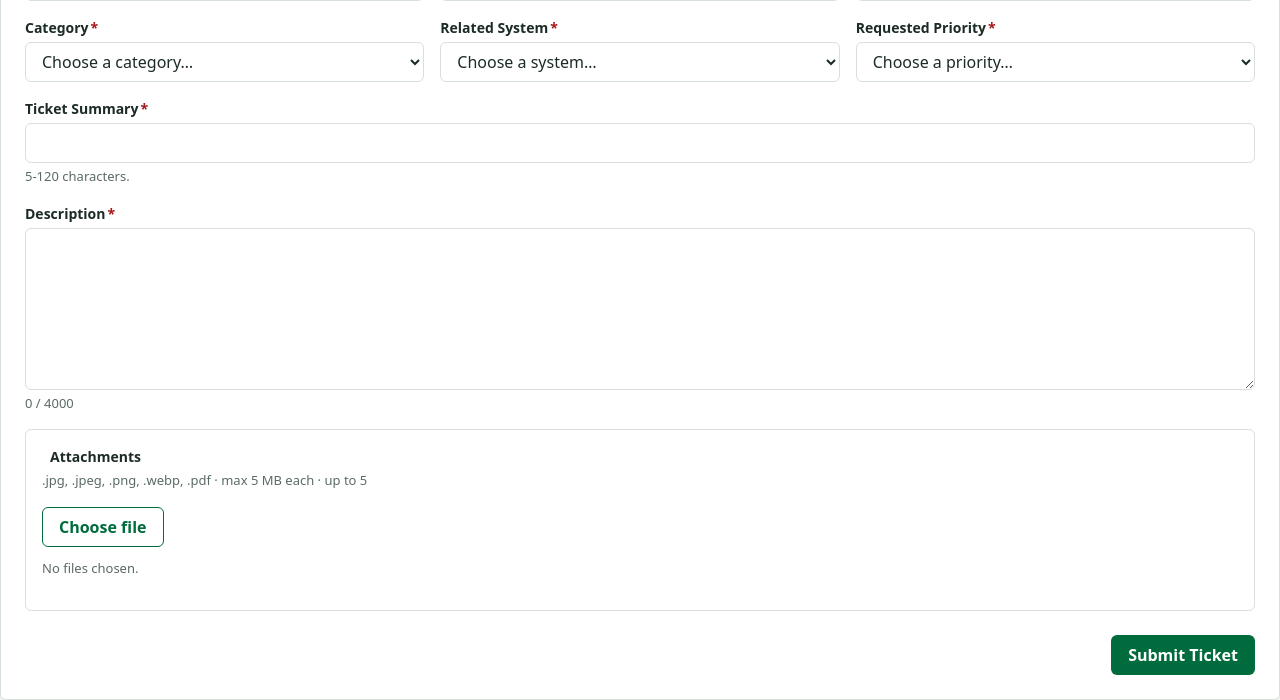
Test: validation before submit › shows field messages and issues no request when the form is empty
(page scrolled)
Click the button "Submit Ticket" at (1183, 655), box [1111,635,1255,675]
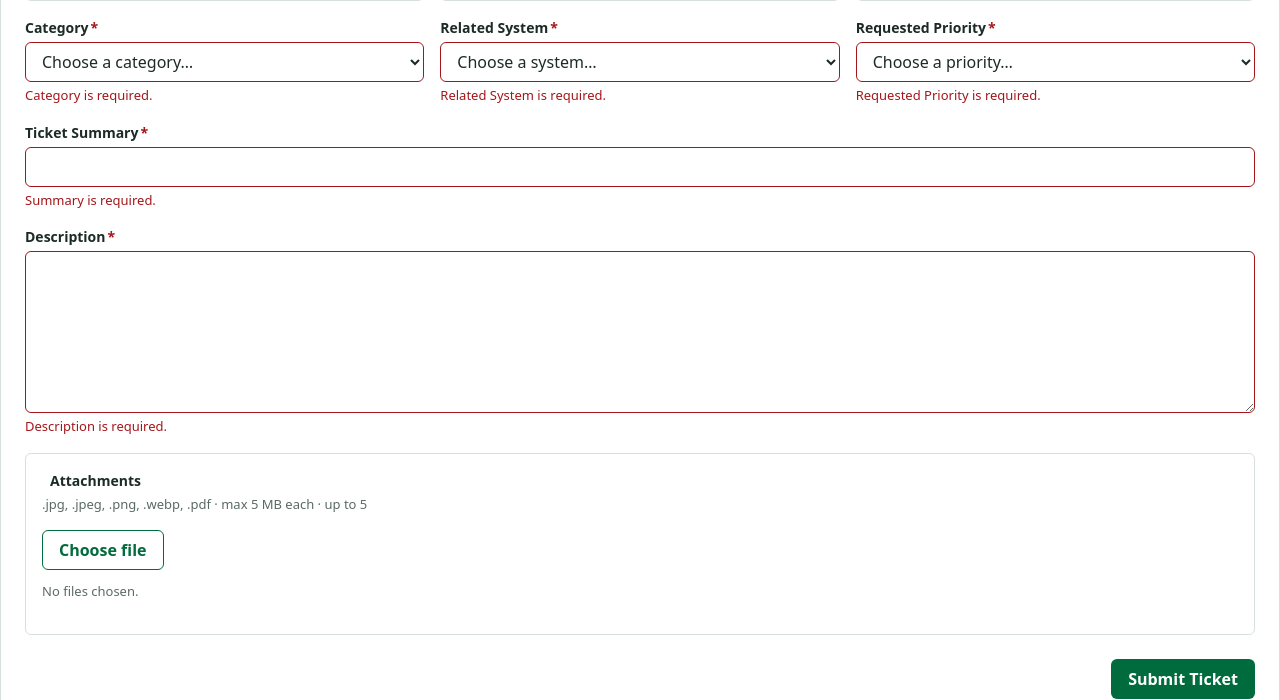
Check: the text "Summary is required." is shown, box [25,190,156,208]
Check: the text "Description is required." is shown, box [25,417,167,435]
Check: the text "Category is required." is shown, box [25,86,152,104]
